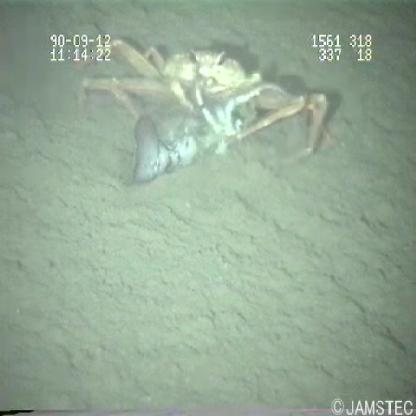Bio: (68, 34, 332, 188)
